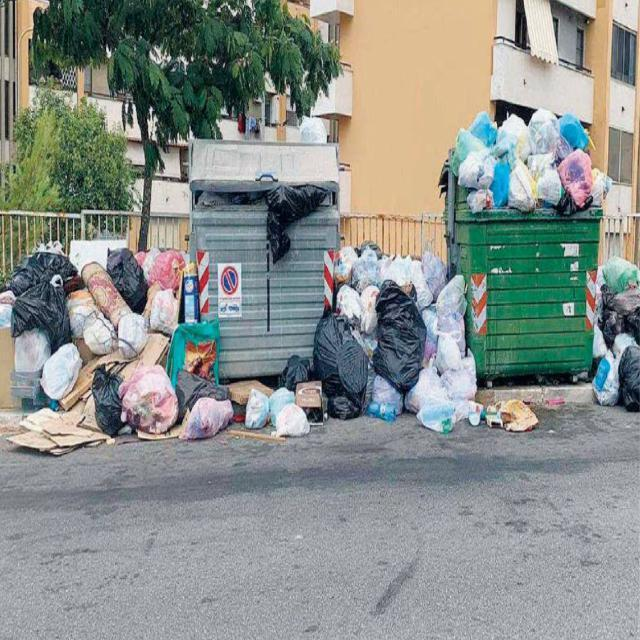Trashbag: (363, 284, 454, 404), (300, 314, 378, 428), (257, 180, 318, 262), (102, 237, 148, 316), (590, 280, 640, 340), (92, 362, 128, 438), (14, 246, 82, 282), (11, 286, 65, 331), (266, 336, 308, 376), (621, 346, 640, 416)
